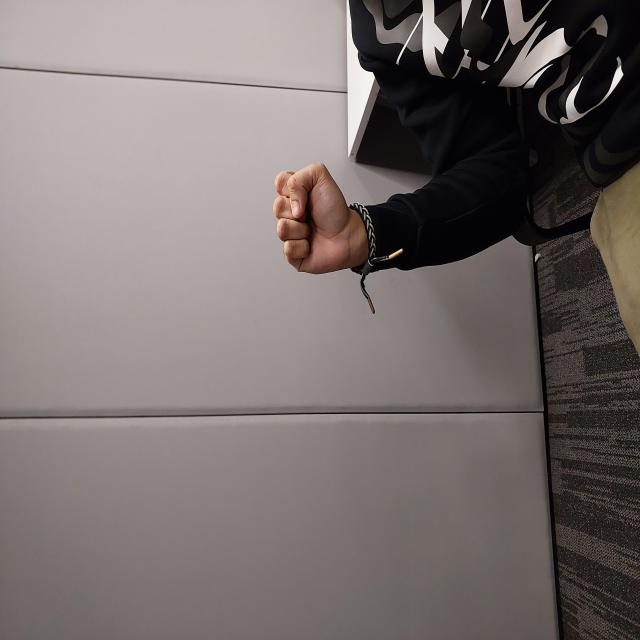S: (366, 270, 480, 370)
